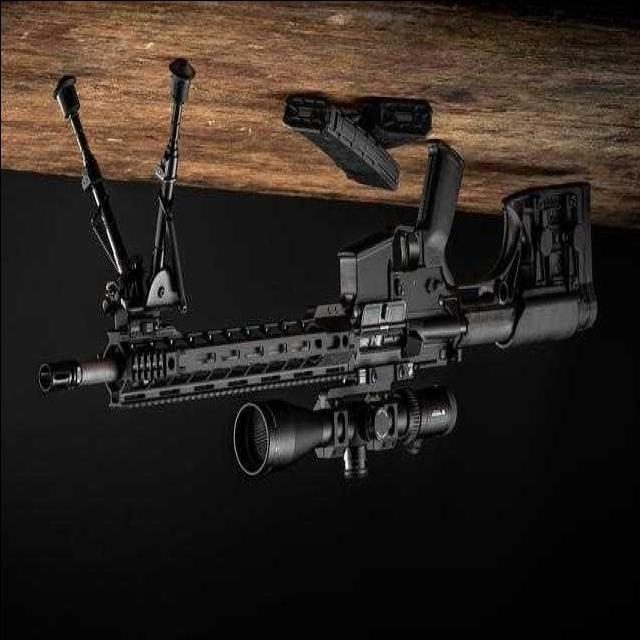heavyweapon: (18, 173, 608, 503)
